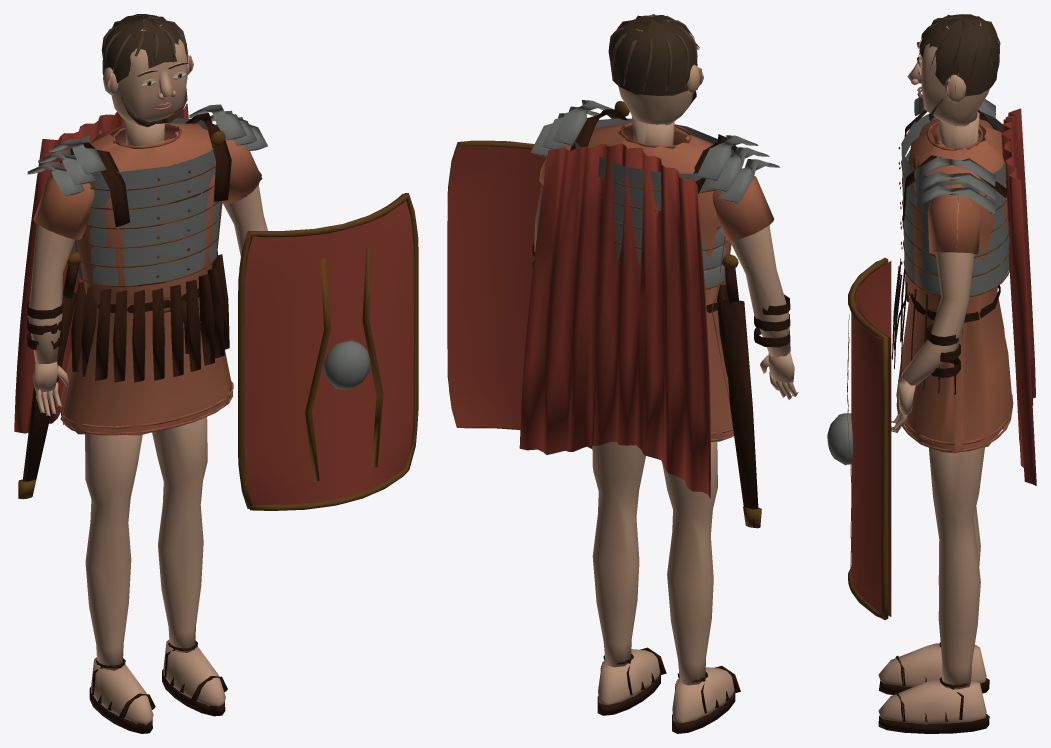
Rendered from frontier_guard_lod1.glb.
The picture shows the model from 3 angles, left to right: view 1: azimuth 30°, elevation 25°; view 2: azimuth 150°, elevation 25°; view 3: azimuth 270°, elevation 25°; orthographic projection. The views are drawn at different scales.
Visible parts, largest first — view 1: frontier_guard_lod1_06, frontier_guard_lod1_00, frontier_guard_lod1_01, frontier_guard_lod1_02, frontier_guard_lod1_03, frontier_guard_lod1_04, frontier_guard_lod1_05; view 2: frontier_guard_lod1_05, frontier_guard_lod1_00, frontier_guard_lod1_06, frontier_guard_lod1_02, frontier_guard_lod1_03, frontier_guard_lod1_01, frontier_guard_lod1_04; view 3: frontier_guard_lod1_00, frontier_guard_lod1_01, frontier_guard_lod1_06, frontier_guard_lod1_03, frontier_guard_lod1_05, frontier_guard_lod1_02, frontier_guard_lod1_04.
Part boxes in pixels (x1,y1,x2,y2): frontier_guard_lod1_06: [239, 193, 413, 504]; frontier_guard_lod1_00: [28, 14, 267, 725]; frontier_guard_lod1_01: [33, 123, 262, 435]; frontier_guard_lod1_02: [20, 113, 231, 733]; frontier_guard_lod1_03: [27, 104, 370, 389]; frontier_guard_lod1_04: [18, 131, 418, 510]; frontier_guard_lod1_05: [14, 103, 188, 433]; frontier_guard_lod1_05: [519, 143, 710, 498]; frontier_guard_lod1_00: [533, 14, 798, 724]; frontier_guard_lod1_06: [447, 146, 592, 448]; frontier_guard_lod1_02: [532, 109, 790, 733]; frontier_guard_lod1_03: [530, 100, 779, 288]; frontier_guard_lod1_01: [539, 123, 774, 441]; frontier_guard_lod1_04: [447, 101, 761, 528]; frontier_guard_lod1_00: [878, 14, 1013, 724]; frontier_guard_lod1_01: [896, 118, 1012, 453]; frontier_guard_lod1_06: [851, 261, 891, 616]; frontier_guard_lod1_03: [827, 97, 1013, 465]; frontier_guard_lod1_05: [1001, 108, 1036, 485]; frontier_guard_lod1_02: [878, 110, 1006, 733]; frontier_guard_lod1_04: [847, 143, 1013, 619].
Size of the model in its own units: 0.9941 by 1.78 by 0.4899.
7 materials, 2 textured.
